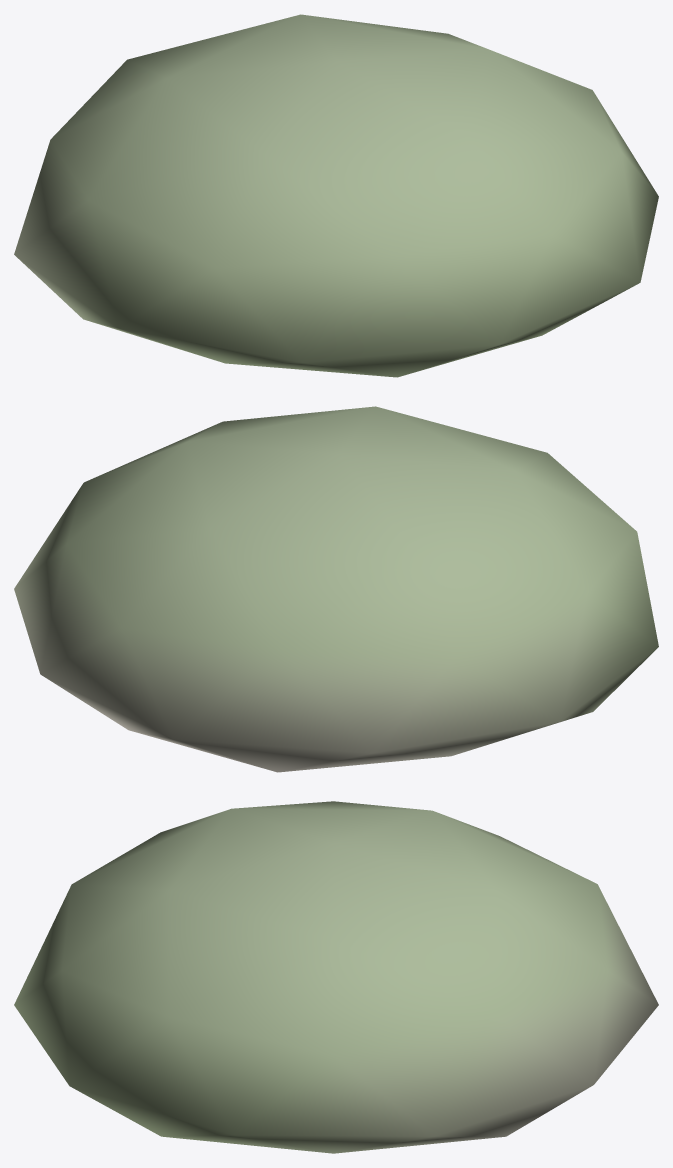
File: hill.glb
The picture shows the model from 3 angles, top to bottom: view 1: azimuth 30°, elevation 25°; view 2: azimuth 150°, elevation 25°; view 3: azimuth 270°, elevation 25°; orthographic projection.
Visible parts, largest first — view 1: Body; view 2: Body; view 3: Body.
Boxes of the visible parts, <box> form: Body: <box>14,14,658,377</box>; Body: <box>14,406,658,772</box>; Body: <box>14,801,658,1153</box>.
Bounding box in the file's own units: 2.69 × 0.92 × 2.8.
